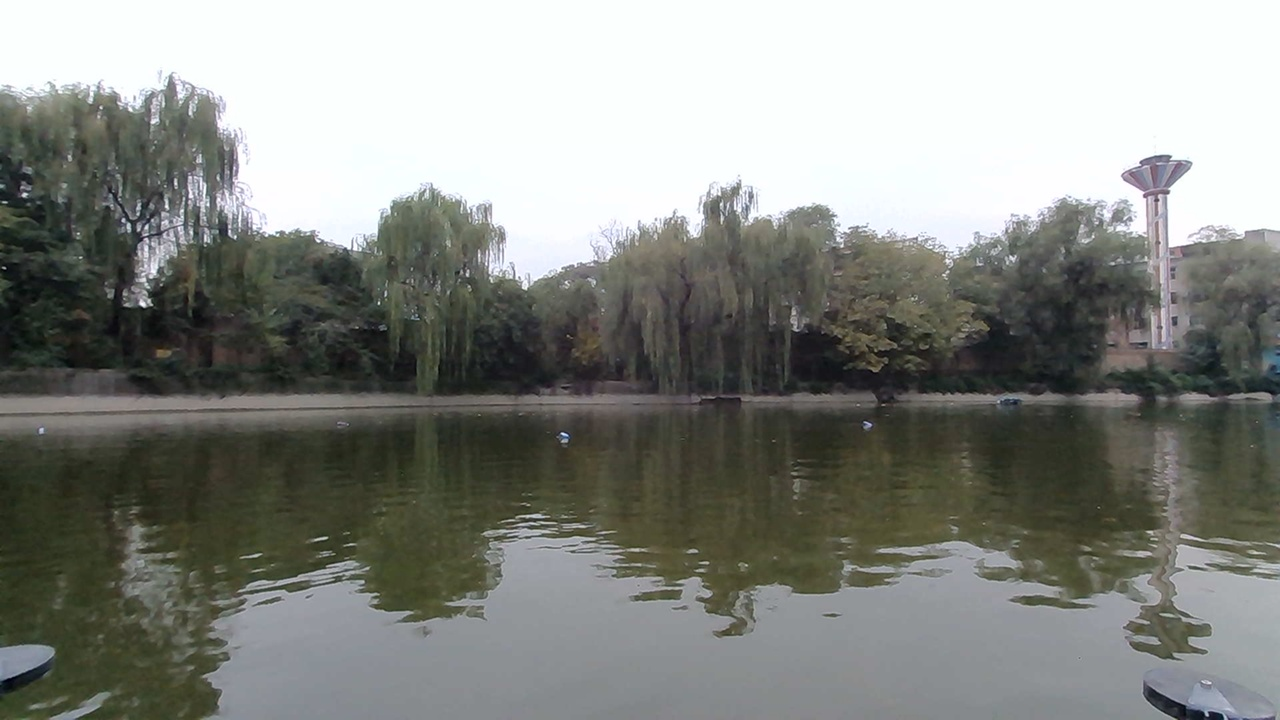bottle: (329, 406, 365, 437), (552, 420, 591, 448), (26, 417, 67, 440), (847, 410, 878, 431)
